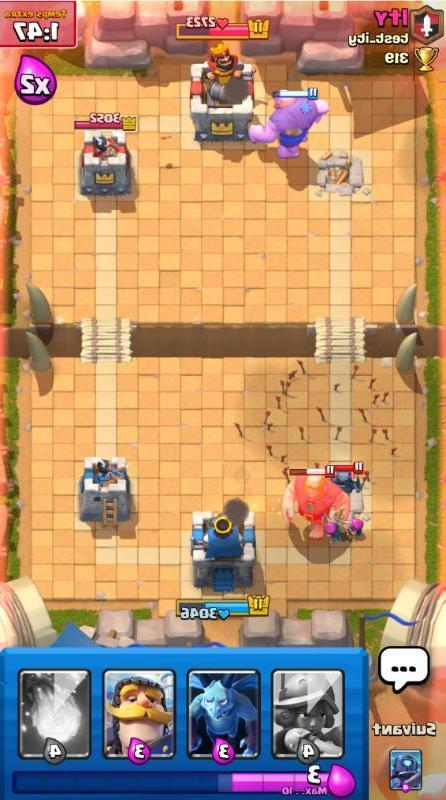enemy_giant: (278, 468, 350, 538)
player_archers: (320, 508, 347, 542), (344, 508, 370, 540)
player_giant: (246, 84, 332, 162)
